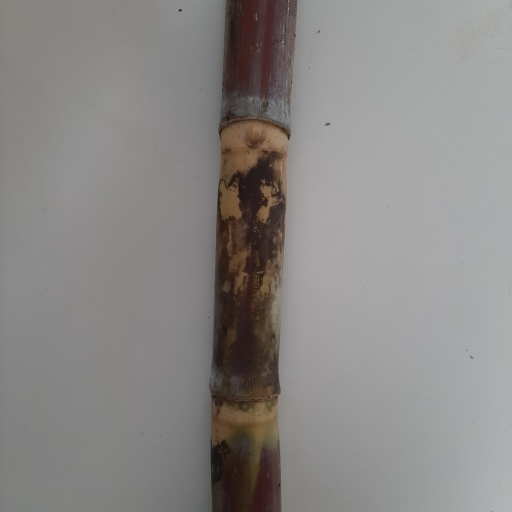Bud: (241, 119, 269, 152)
